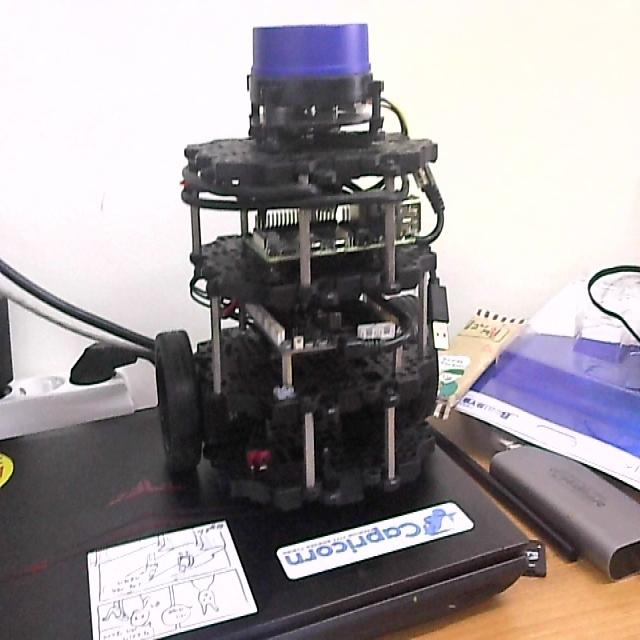turtle: (153, 21, 452, 516)
